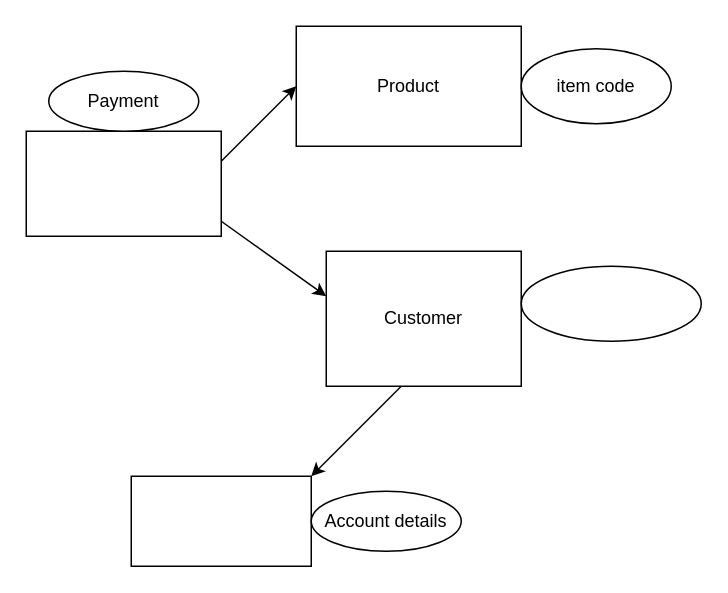
The diagram is 728 pixels wide and 593 high, and some of its shapes have lost their labels. The shapes that lost their labels are listed below. From the top down, each one's centre as x and y in pixels, then its label:
At (x=123, y=183): "order".
At (x=610, y=303): "Customer detail".
At (x=220, y=520): "Account".
